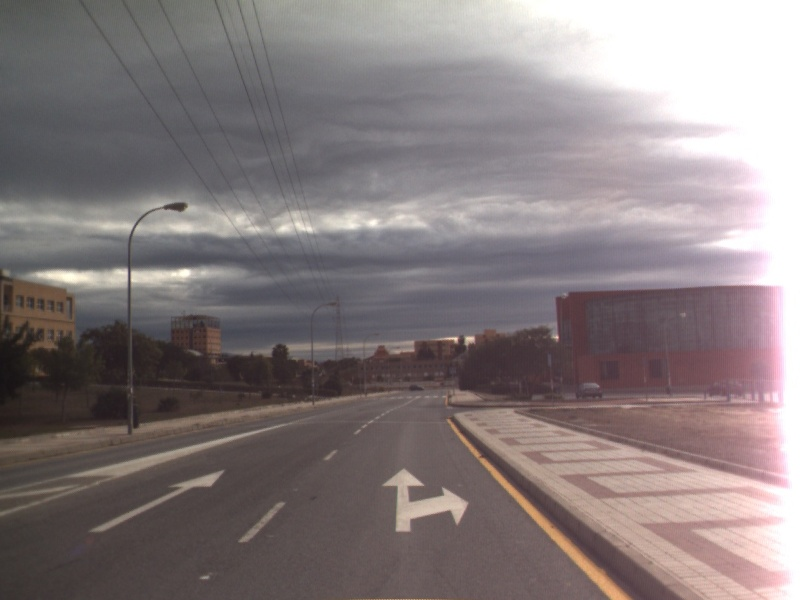STRAIGHT: (86, 467, 228, 534)
STRAIGHT_RIGHT: (380, 466, 471, 534)
